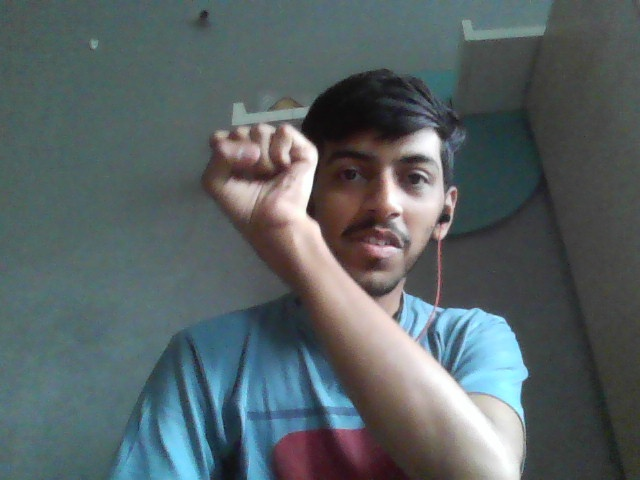Yes: (197, 119, 322, 235)
